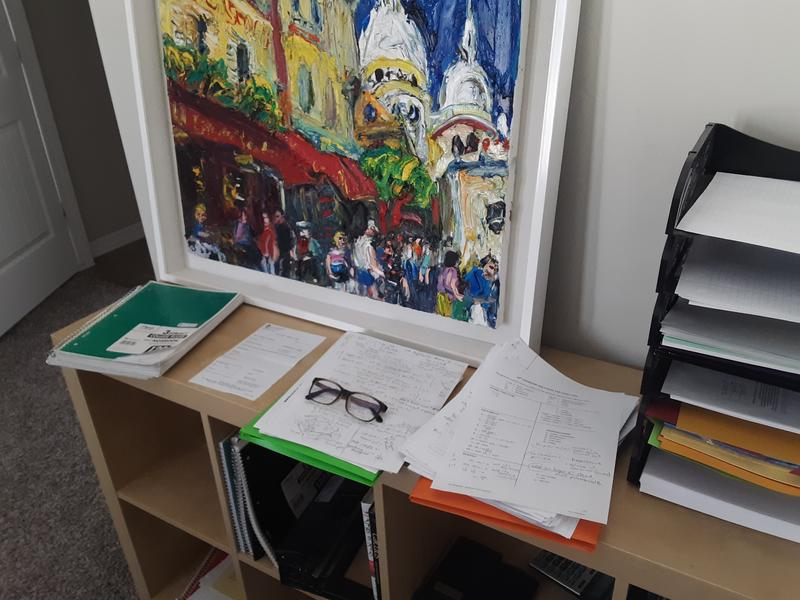glasses: (306, 374, 389, 425)
